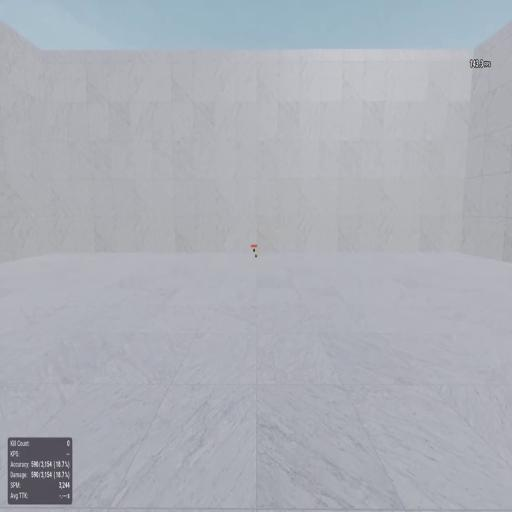Crosshair: (255, 254, 257, 258)
Target: (253, 248, 255, 253)
